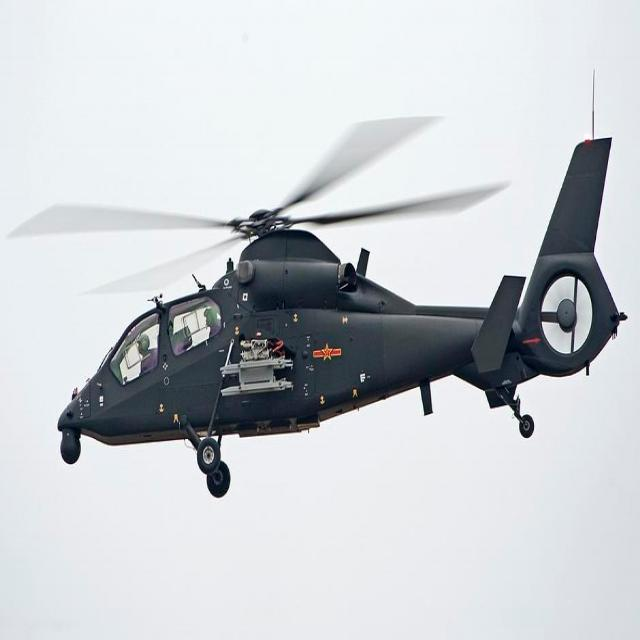MIL_HELO: (31, 107, 640, 520)
